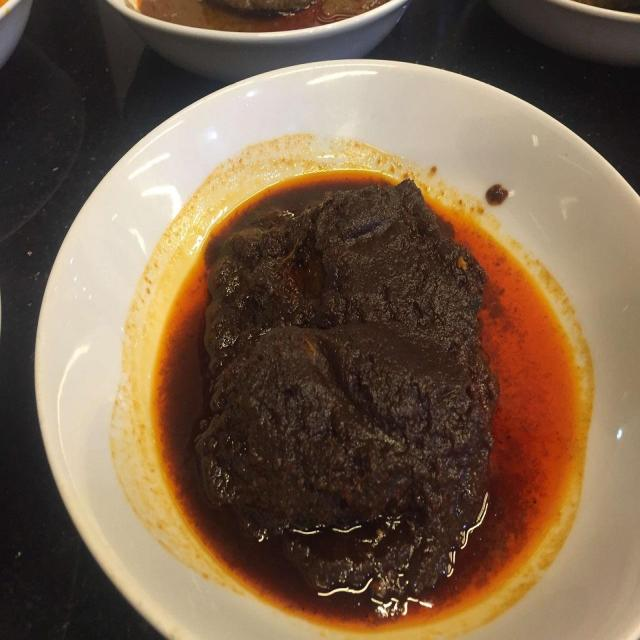Rendang: (187, 176, 502, 572)
